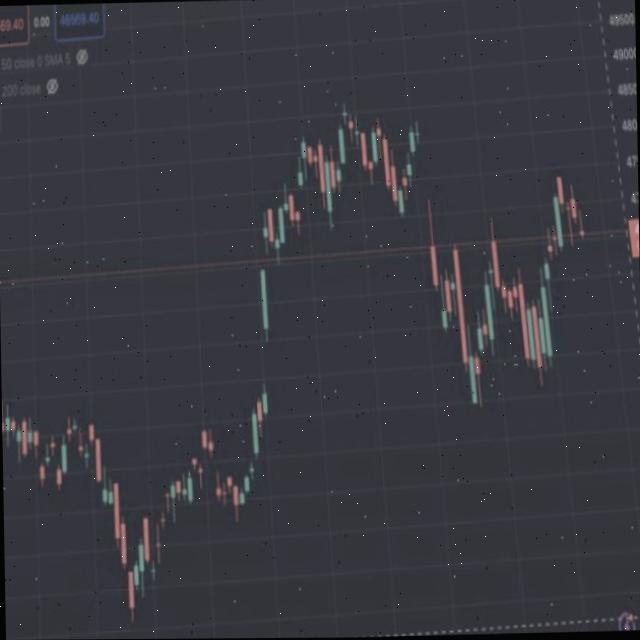Gap Down: (208, 441, 221, 496)
Gap Up: (411, 132, 438, 286), (260, 267, 278, 418), (256, 225, 270, 330)
